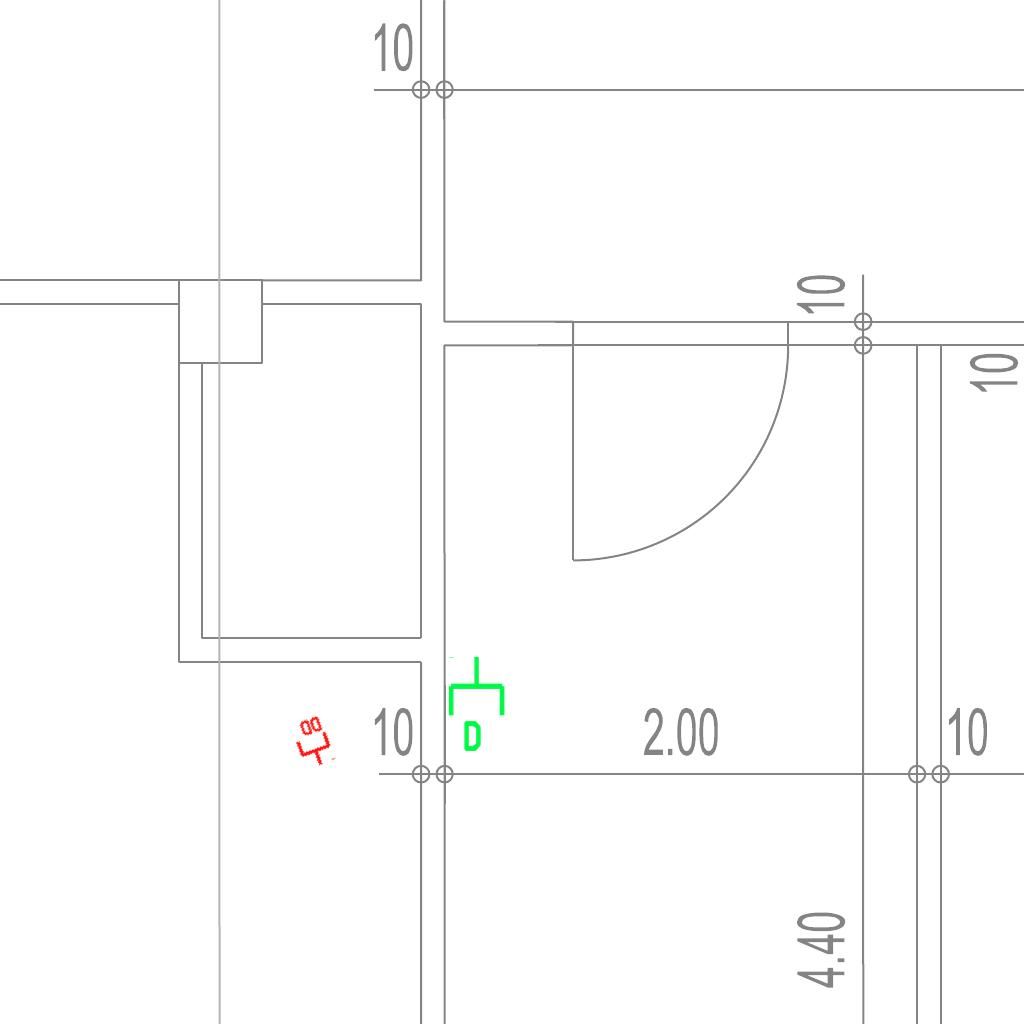Datenanschluss_einfach: (444, 654, 513, 754)
Datenanschluss_zweifach: (287, 712, 337, 773)
